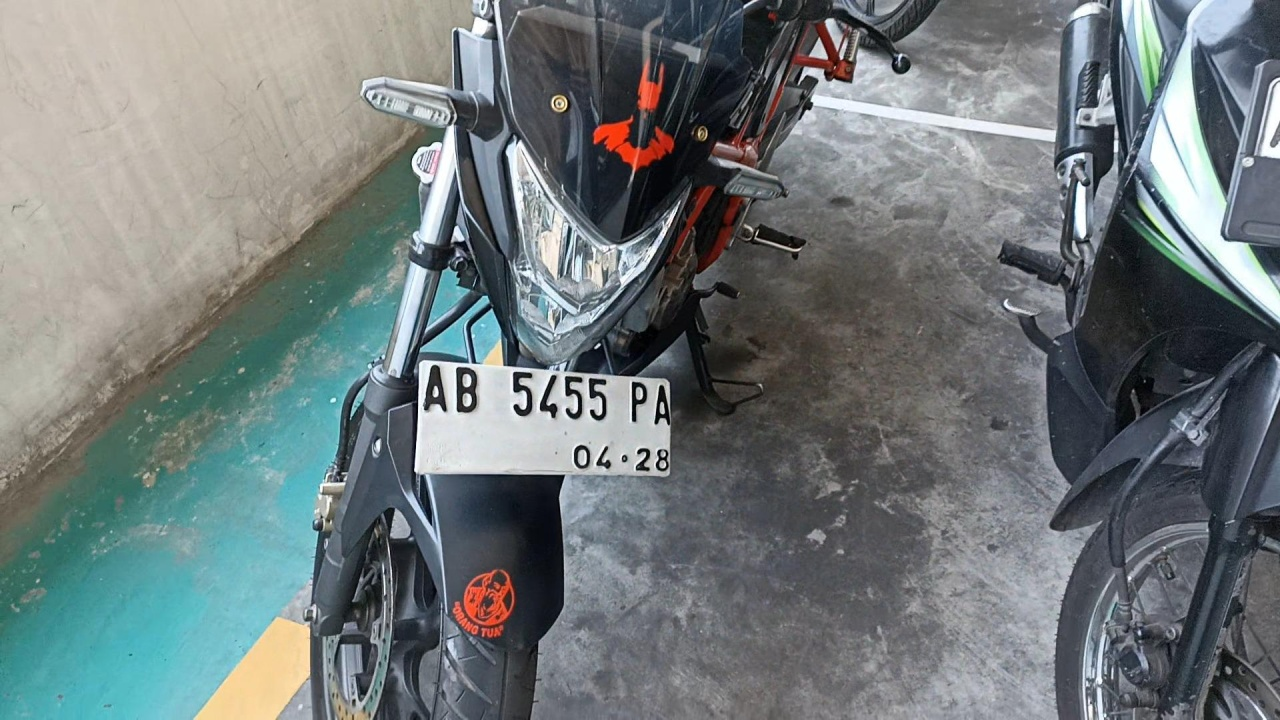plate: (413, 359, 671, 477)
